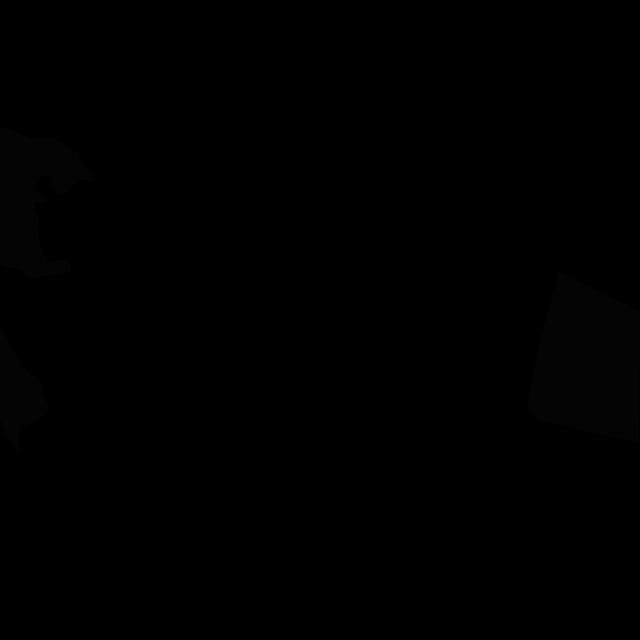soft_plastic: (527, 271, 640, 444)
